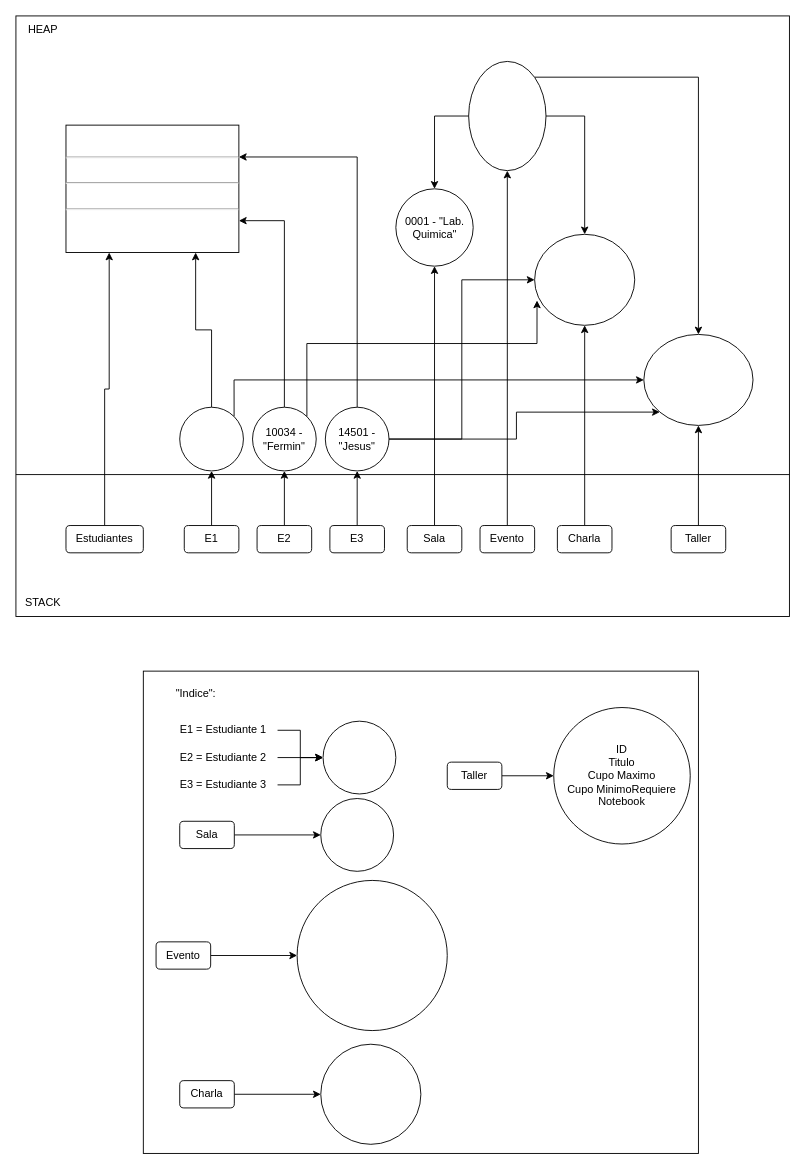
This 805x1169 diagram has some shape labels left out. The centre of each missing label's shape, as x and y in pixels:
0001 "Ciberseguridad" 30 2 Prof. Nafario: point (584, 279)
0002 "Programacio" 15 5 True: point (698, 379)
0021 "Tegnologia" 13.000,0 false 2: point (507, 116)
10001 - "Manuel": point (211, 438)
ID Nombre: point (357, 834)
ID Titulo CostoBase Gratuito Cantidad de eventos: point (371, 955)
ID Titulo Cupo Maximo Cupo Minimo Disertante: point (370, 1093)
Legajo Nombre: point (359, 757)
